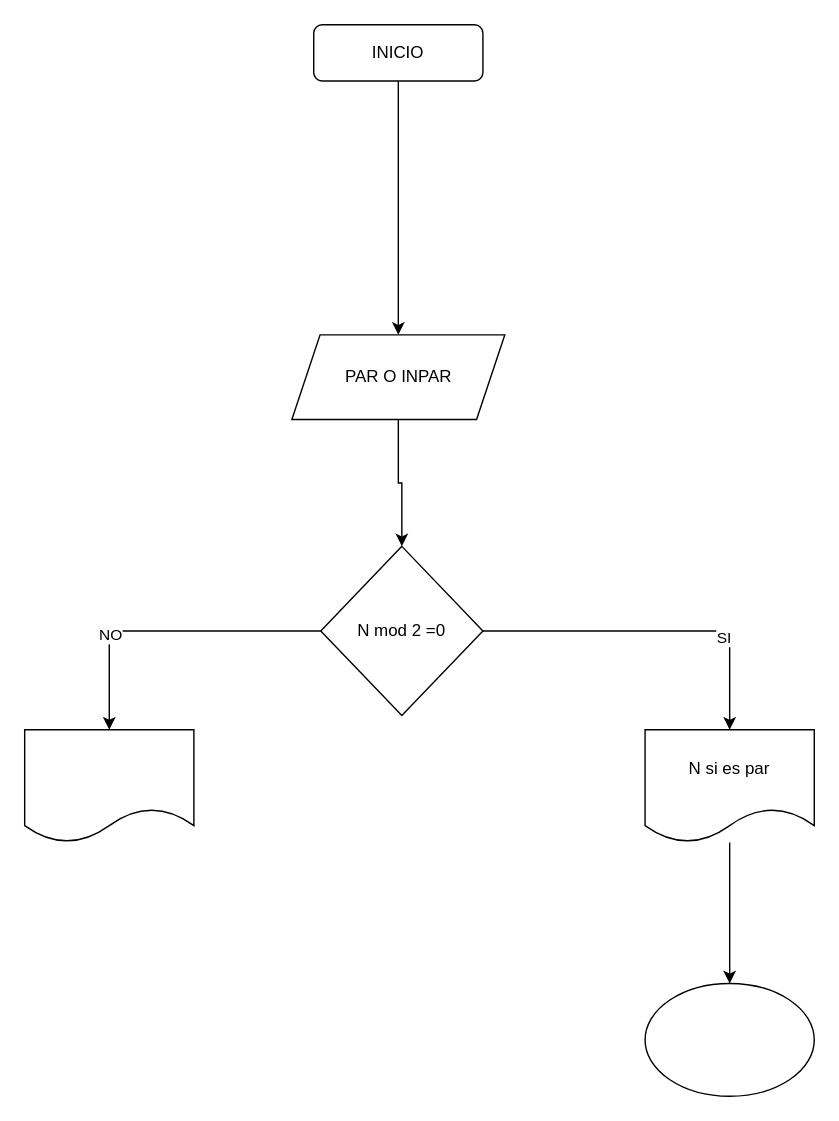
The diagram is 839 pixels wide and 1121 high, and some of its shapes have lost their labels. The shapes that lost their labels are listed below. From the top down, each one's centre as x and y in pixels, then its label:
At (108,785): "N no es par".
At (729,1039): "FIN".
